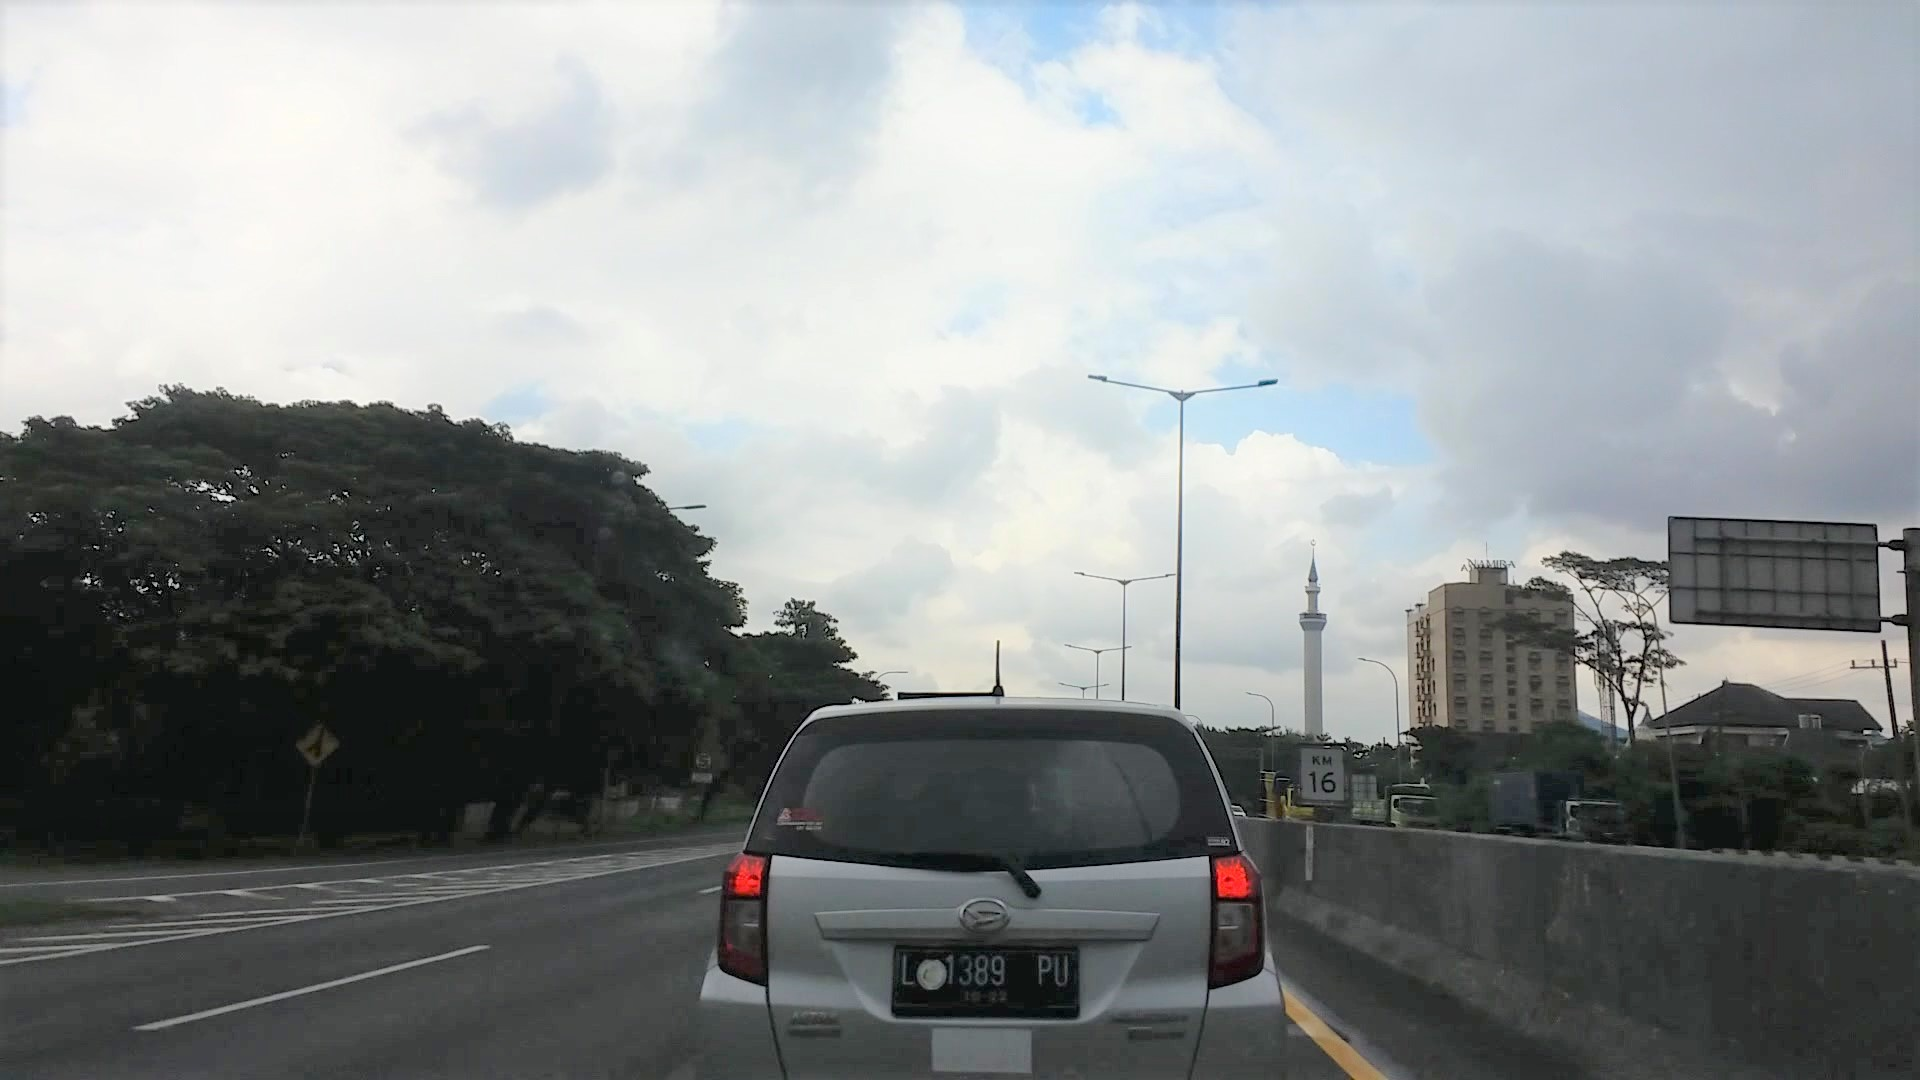plate_positive: (890, 945, 1080, 1019)
